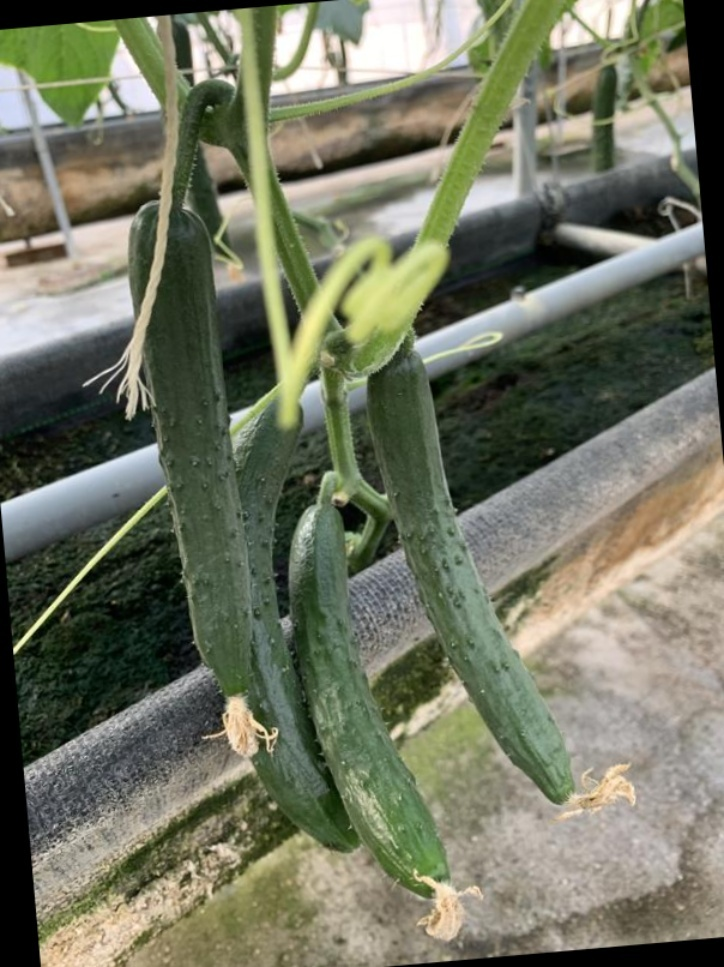mature: (379, 356, 581, 819), (121, 198, 267, 704), (215, 407, 361, 856), (289, 497, 449, 900)
